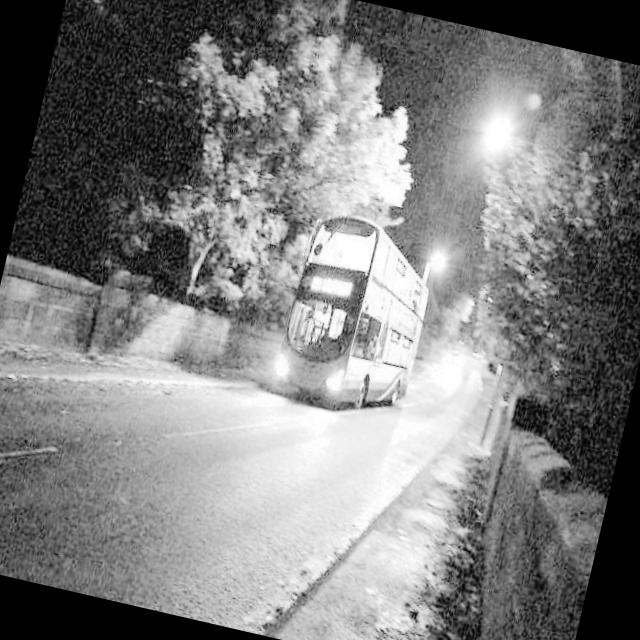Bus: (258, 196, 460, 443)
